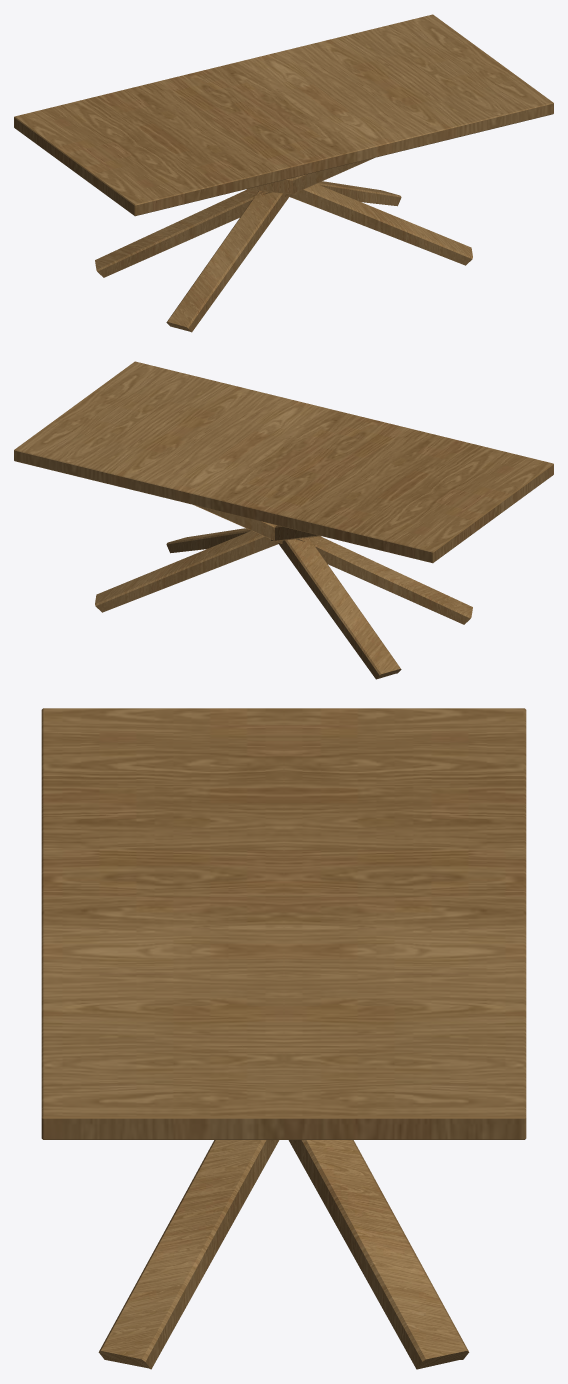
Rendered from rectangular-oak.glb.
3 views of the same model, one above another, from view 1: azimuth 30°, elevation 25°; view 2: azimuth 150°, elevation 25°; view 3: azimuth 270°, elevation 25° (orthographic). The views are drawn at different scales.
Visible parts, largest first — view 1: Top_target, Base_target; view 2: Top_target, Base_target; view 3: Top_target, Base_target.
Boxes of the visible parts, x1=… form: Top_target: x1=14, y1=14, x2=553, y2=216; Base_target: x1=95, y1=158, x2=472, y2=332; Top_target: x1=14, y1=361, x2=553, y2=563; Base_target: x1=95, y1=505, x2=472, y2=679; Top_target: x1=41, y1=708, x2=526, y2=1139; Base_target: x1=98, y1=1140, x2=469, y2=1369.
Bounding box in the file's own units: 2.13 × 0.762 × 1.07.
Materials: 1 (1 with a texture image).
